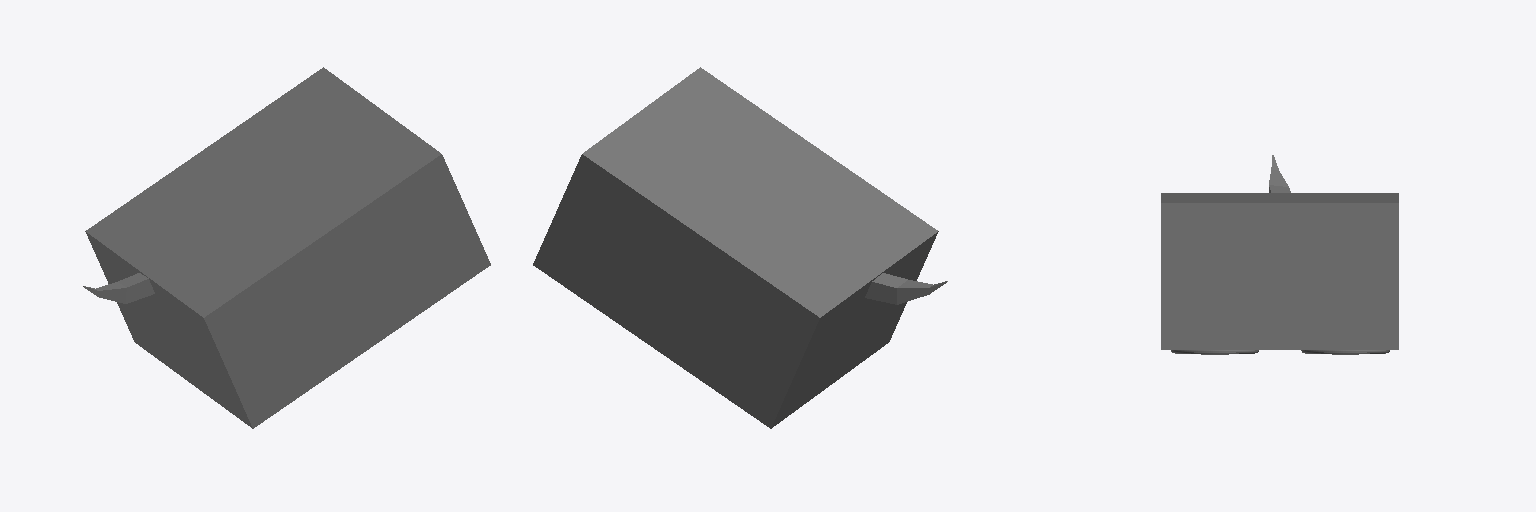
Rendered from Cuerpo.obj.
3 renders of one model, left to right at view 1: azimuth 30°, elevation 25°; view 2: azimuth 150°, elevation 25°; view 3: azimuth 270°, elevation 25°, orthographic.
Visible parts, largest first — view 1: Cube, Plano; view 2: Cube, Plano; view 3: Cube.
Boxes of the visible parts, x1=… form: Cube: x1=85, y1=67, x2=490, y2=428; Plano: x1=83, y1=273, x2=154, y2=303; Cube: x1=533, y1=67, x2=938, y2=428; Plano: x1=865, y1=273, x2=947, y2=304; Cube: x1=1161, y1=193, x2=1398, y2=349.
Size of the model in its own units: 4.24 by 2.63 by 2.47.